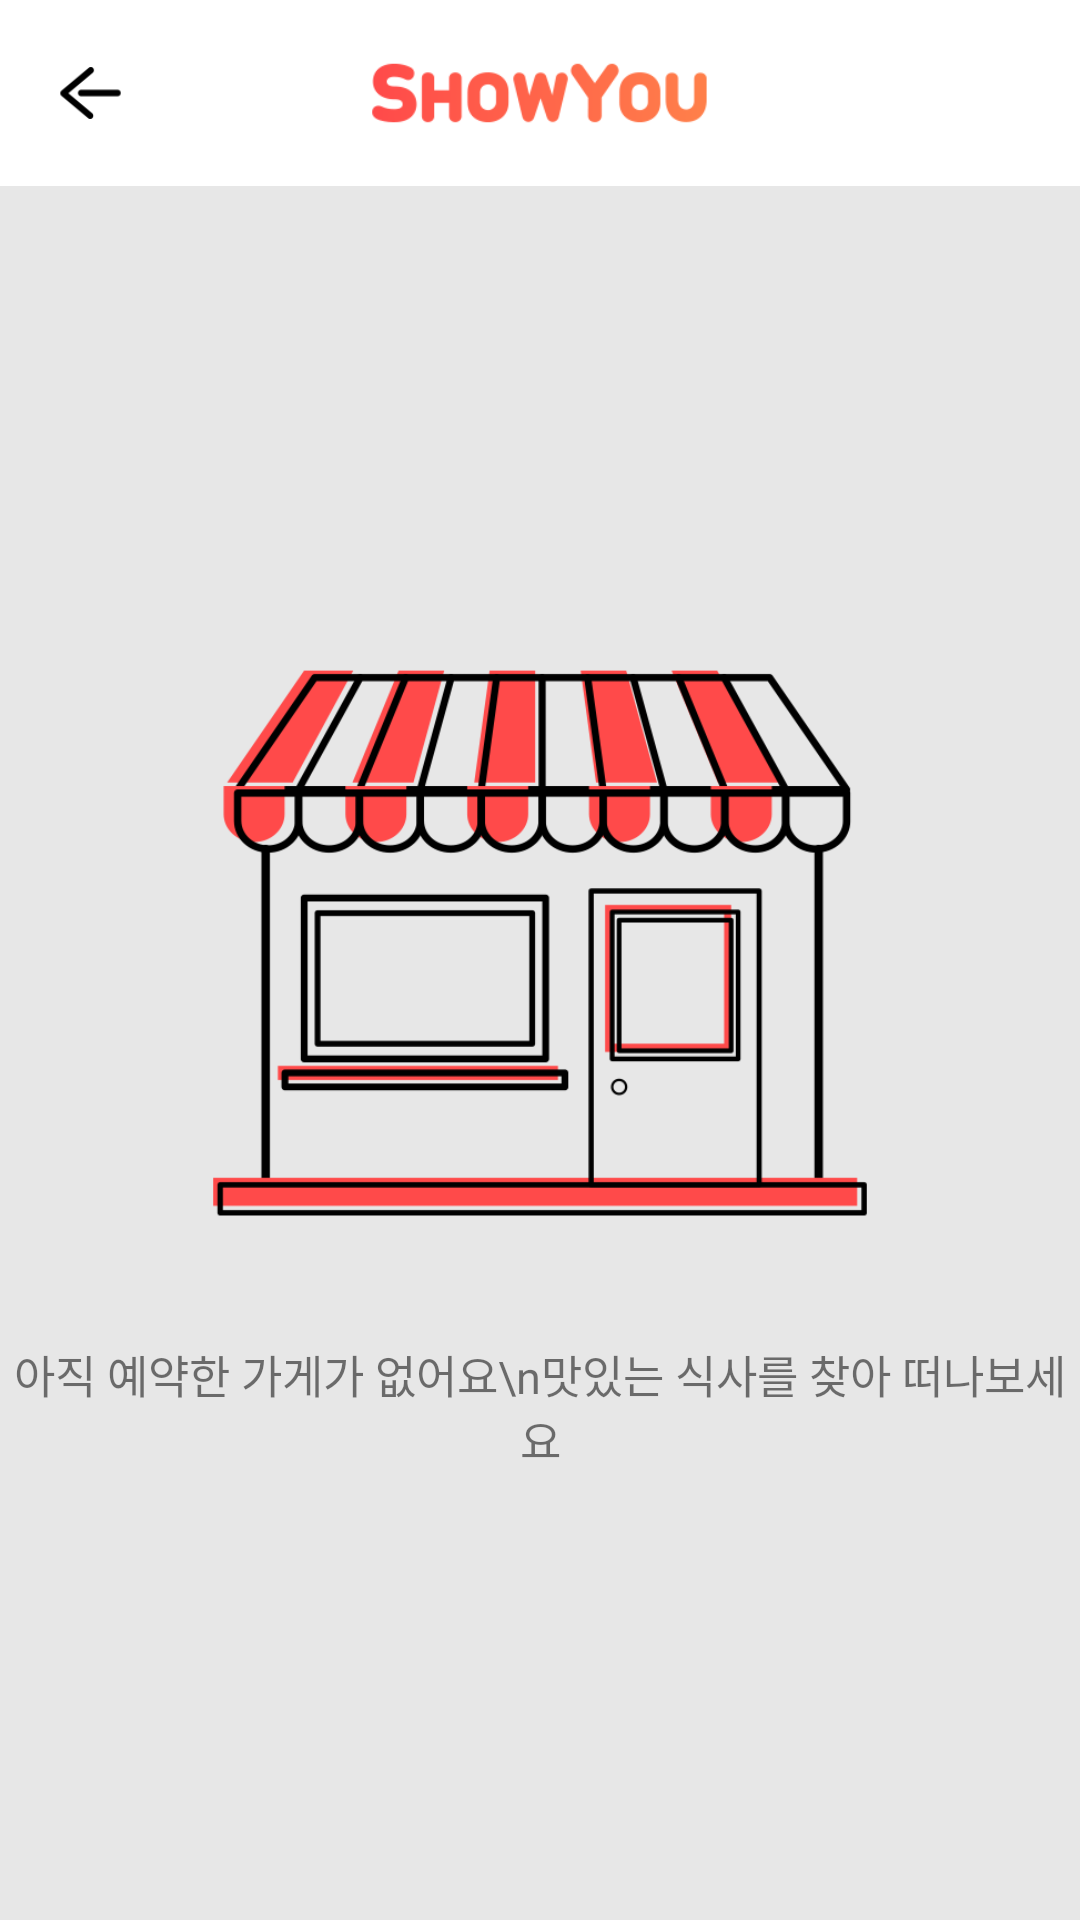

Where icons sit on this 1080 × 1920 app screen, as (x1, y1, x2, y2):
left arrow: (60, 67, 121, 119)
